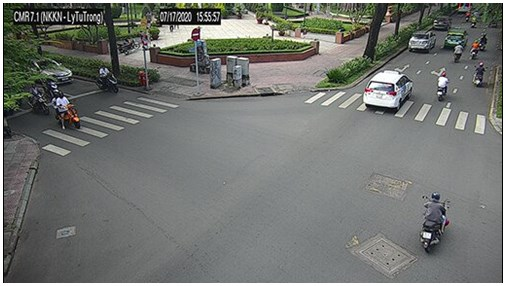di_bo: (308, 3, 314, 17)
xe_hoi: (29, 56, 74, 84), (408, 31, 436, 51), (445, 28, 468, 49), (432, 15, 453, 30), (456, 4, 472, 12)
xe_may: (421, 191, 450, 252), (51, 92, 82, 130), (25, 83, 49, 115), (94, 64, 119, 94), (117, 36, 141, 56), (472, 62, 487, 87), (44, 79, 61, 99), (437, 73, 448, 102), (470, 40, 480, 60), (454, 42, 463, 64), (480, 32, 488, 51), (471, 16, 476, 31), (465, 12, 471, 23)
xe_taxi: (363, 70, 415, 111)
